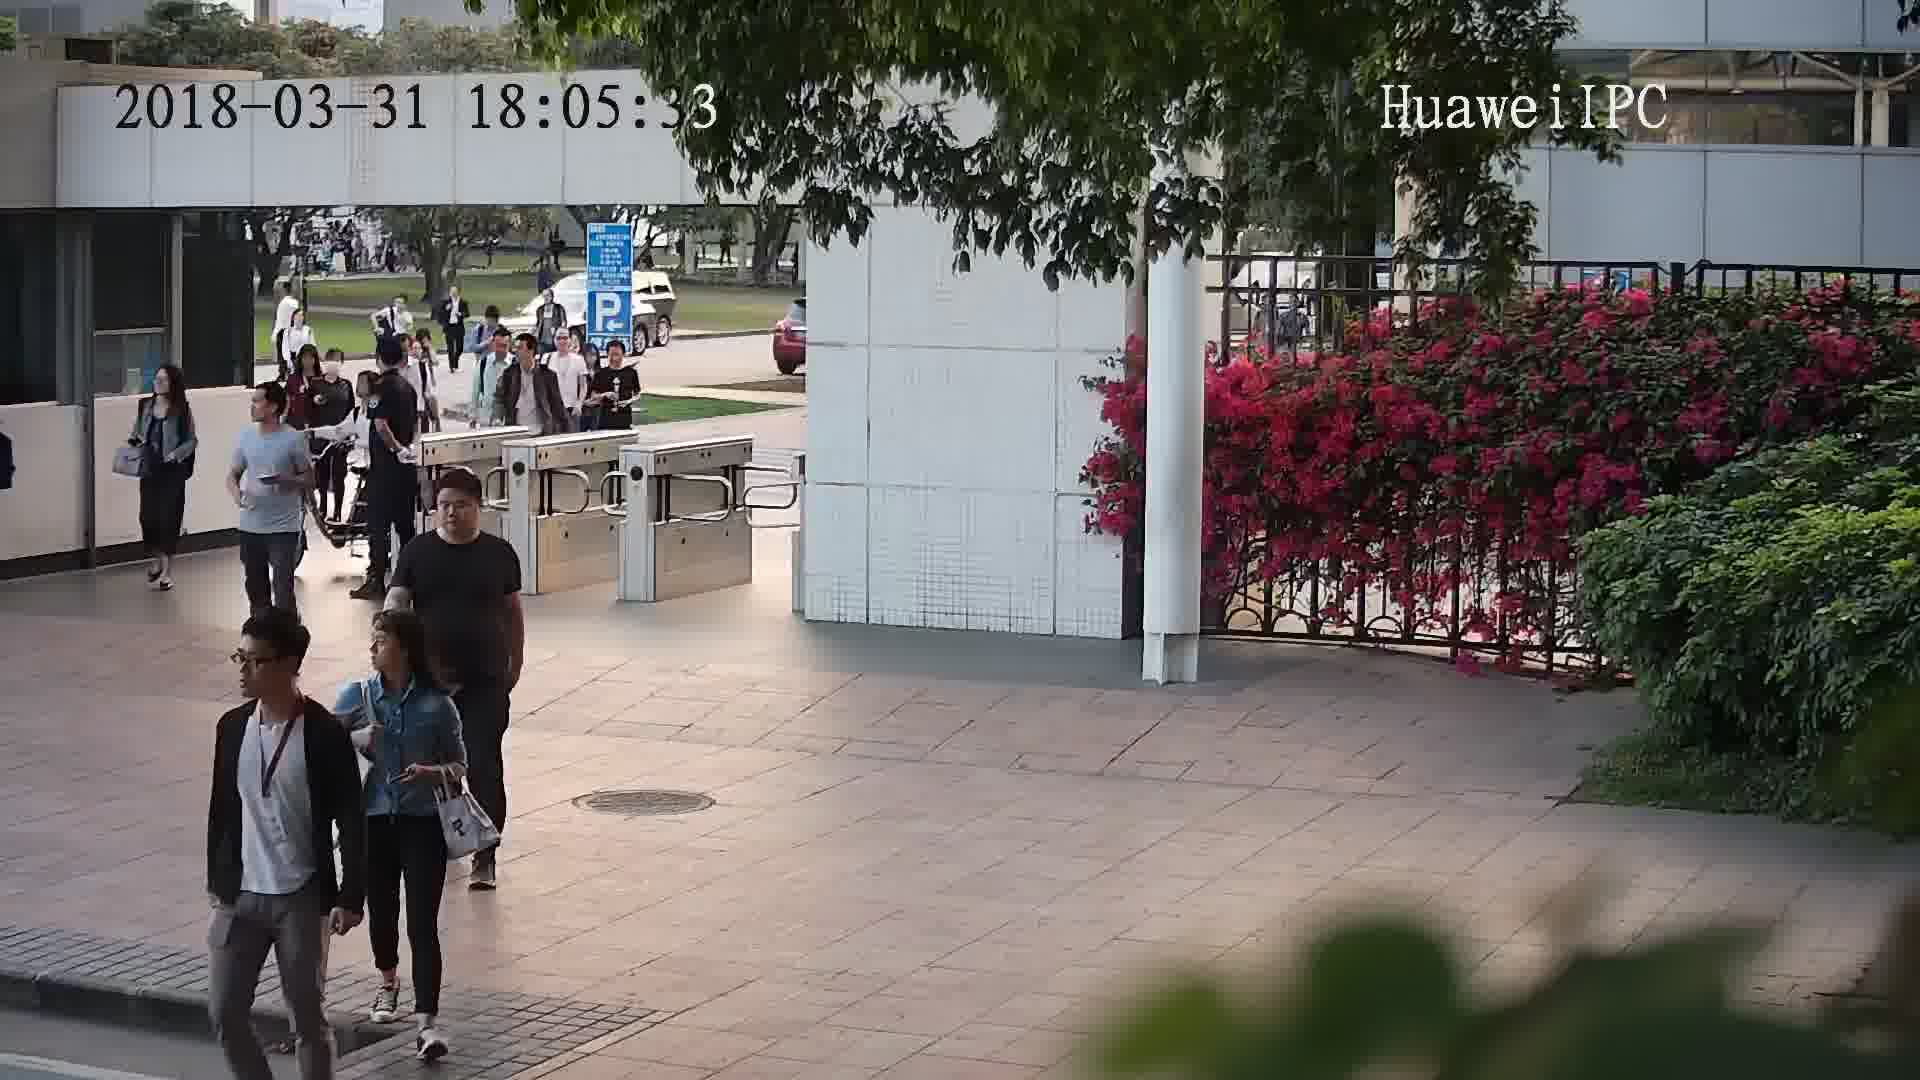face: (224, 633, 291, 700), (428, 480, 485, 537), (359, 620, 410, 671)
person: (217, 610, 346, 756), (395, 463, 518, 578), (350, 600, 451, 721), (238, 379, 310, 458), (140, 360, 199, 421), (377, 335, 425, 396), (505, 332, 555, 384), (286, 337, 330, 394), (316, 345, 357, 397), (597, 335, 638, 381), (478, 325, 517, 372), (542, 325, 582, 371), (472, 300, 513, 340), (280, 307, 321, 341), (535, 289, 572, 321), (275, 274, 304, 312), (380, 290, 413, 323), (441, 281, 472, 313), (581, 341, 601, 375)
